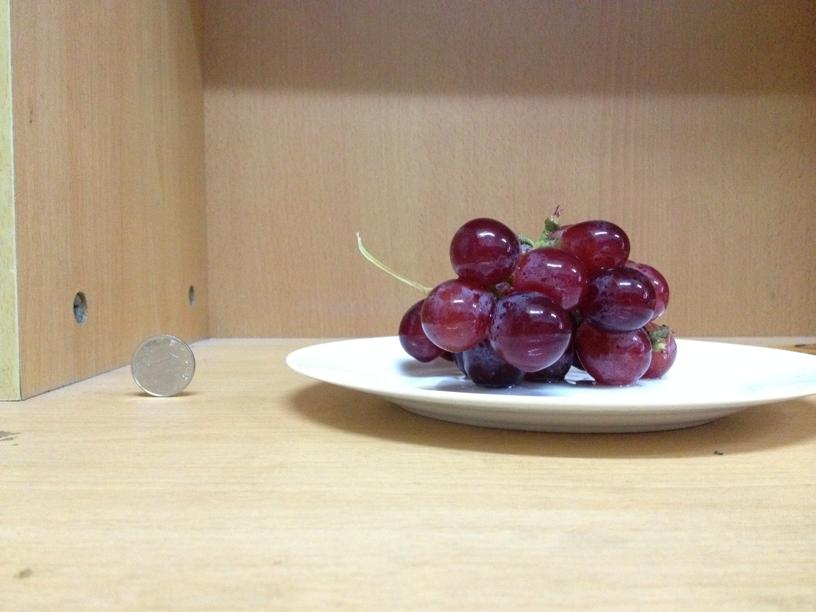coin: (127, 335, 194, 396)
grape: (395, 218, 676, 387)
